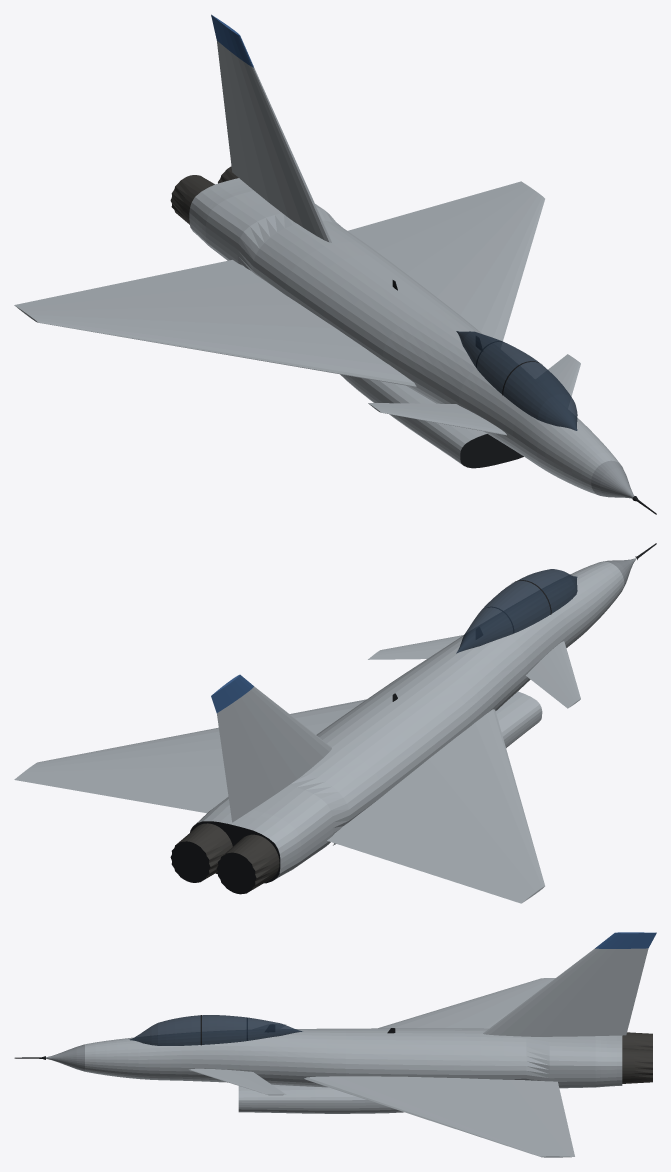
File: ecf90.glb
3 renders of one model, top to bottom at view 1: azimuth 30°, elevation 25°; view 2: azimuth 150°, elevation 25°; view 3: azimuth 270°, elevation 25°, orthographic. The views are drawn at different scales.
Visible parts, largest first — view 1: airframe, canopy; view 2: airframe, canopy; view 3: airframe, canopy.
Boxes of the visible parts, <box> form: airframe: <box>14,14,656,514</box>; canopy: <box>456,331,577,430</box>; airframe: <box>14,543,656,903</box>; canopy: <box>456,569,577,653</box>; airframe: <box>14,932,656,1157</box>; canopy: <box>129,1015,302,1045</box>.
Bounding box in the file's own units: 11 × 4.94 × 16.75.
